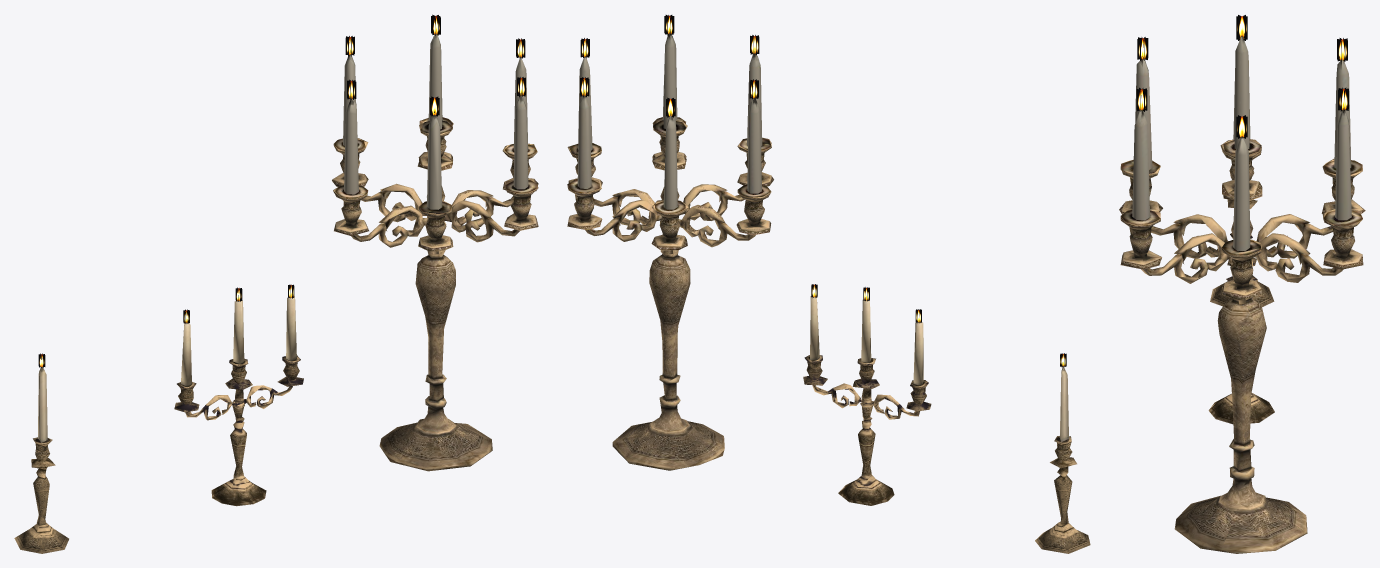
File: brass_candleholders.glb
3 renders of one model, left to right at view 1: azimuth 30°, elevation 25°; view 2: azimuth 150°, elevation 25°; view 3: azimuth 270°, elevation 25°, orthographic. The views are drawn at different scales.
Parts seen in each view (by area): view 1: brass_candleholder_03, brass_candleholder_02, brass_candleholder_01; view 2: brass_candleholder_03, brass_candleholder_02, brass_candleholder_01; view 3: brass_candleholder_03, brass_candleholder_02, brass_candleholder_01.
Boxes of the visible parts, x1,y1,x2,y2 form: brass_candleholder_03: (332,14,538,471); brass_candleholder_02: (174,284,303,506); brass_candleholder_01: (14,353,68,553); brass_candleholder_03: (567,15,773,470); brass_candleholder_02: (803,284,931,505); brass_candleholder_01: (1035,353,1090,553); brass_candleholder_03: (1119,15,1365,553); brass_candleholder_02: (1208,233,1274,424); brass_candleholder_01: (1210,178,1274,306).
Size of the model in its own units: 1.06 by 0.8353 by 0.3667.
5 materials, 5 textured.
